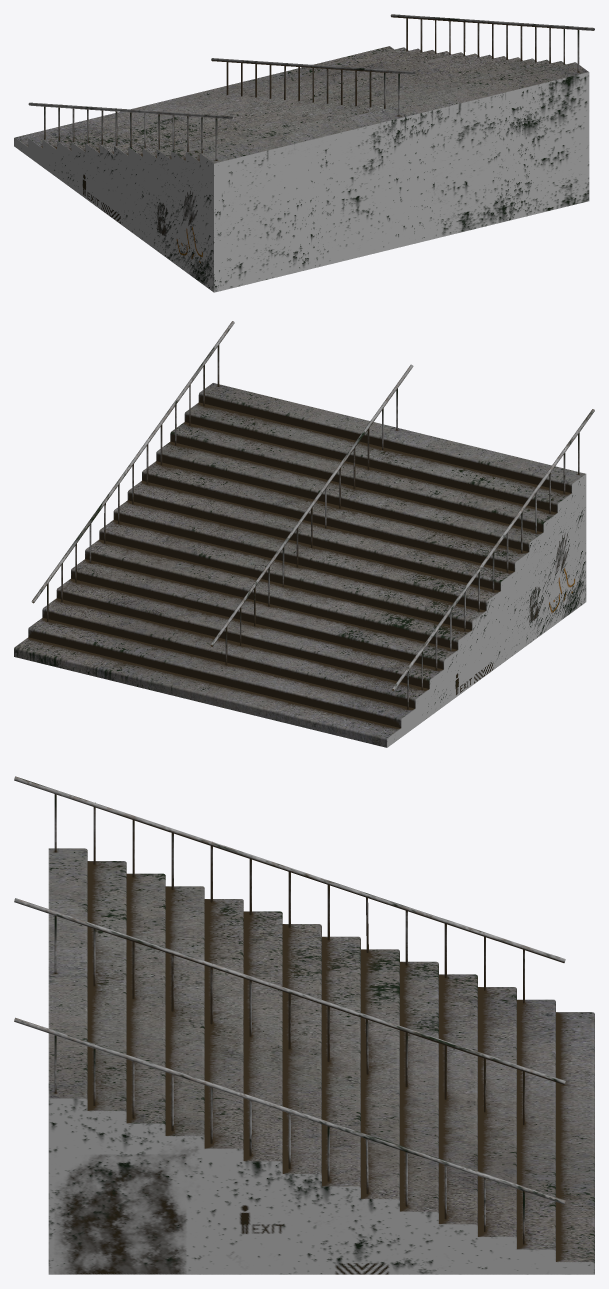
Rendered from building_staircase.glb.
The picture shows the model from 3 angles, top to bottom: view 1: azimuth 30°, elevation 25°; view 2: azimuth 150°, elevation 25°; view 3: azimuth 270°, elevation 25°; orthographic projection. The views are drawn at different scales.
Parts seen in each view (by area): view 1: Object_2; view 2: Object_2; view 3: Object_2.
Part boxes in pixels (x1,y1,x2,y2): Object_2: (14, 14, 594, 292); Object_2: (14, 321, 594, 747); Object_2: (14, 776, 594, 1274).
Bounding box in the file's own units: 1612 × 757 × 1584.
Materials: 1 (1 with a texture image).
